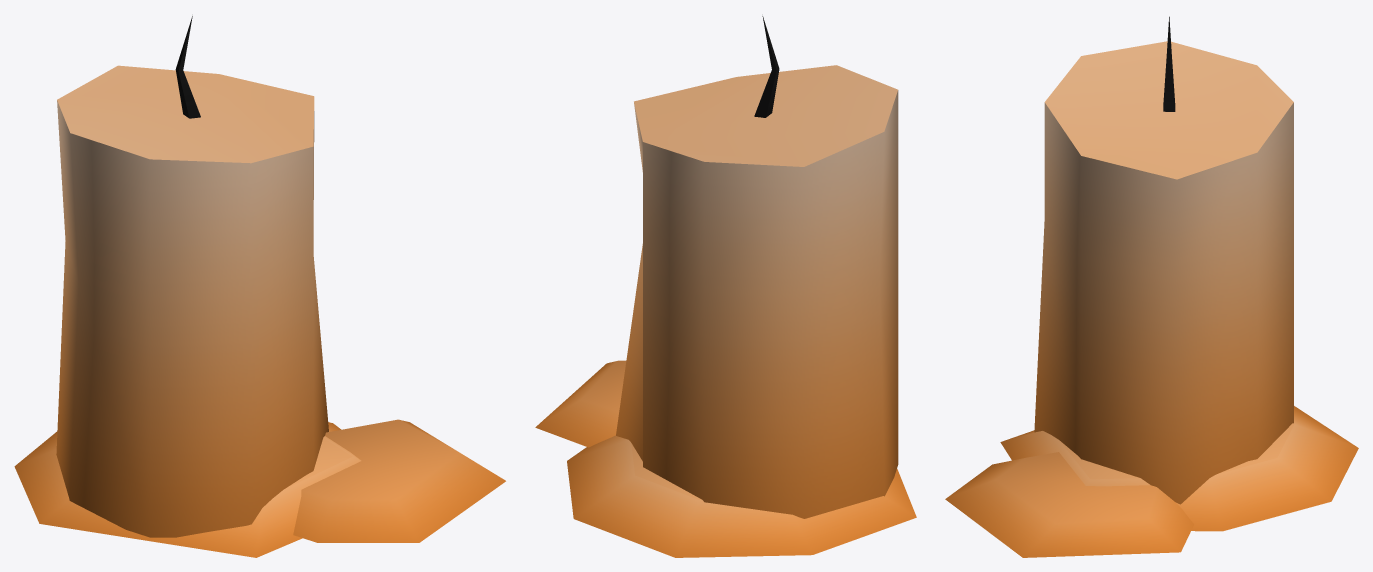
File: Candle.fbx
3 views of the same model, side by side, from view 1: azimuth 30°, elevation 25°; view 2: azimuth 150°, elevation 25°; view 3: azimuth 270°, elevation 25° (orthographic). The views are drawn at different scales.
Parts seen in each view (by area): view 1: Candle.001; view 2: Candle.001; view 3: Candle.001.
Part boxes in pixels (x1,y1,x2,y2): Candle.001: (14, 16, 505, 557); Candle.001: (535, 16, 916, 557); Candle.001: (945, 16, 1358, 557).
Bounding box in the file's own units: 0.1443 × 0.1666 × 0.1419.
